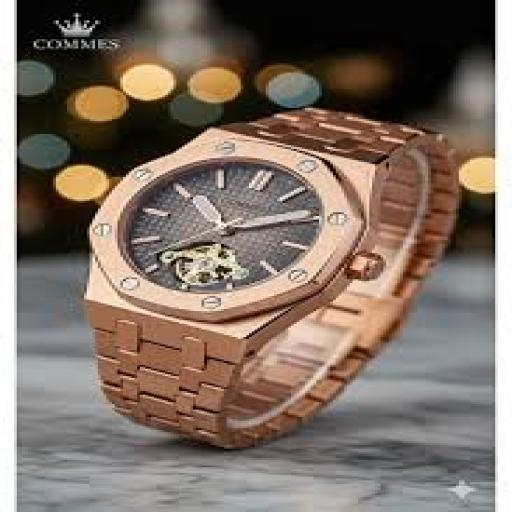KolSaati: (28, 40, 478, 447)
